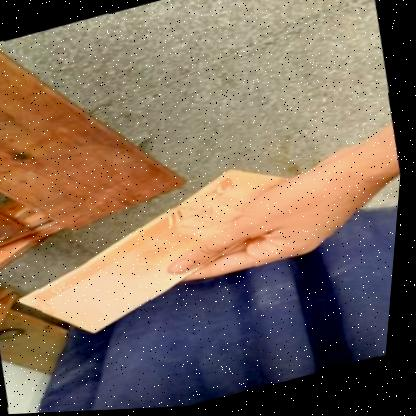twenty-back-vef: (2, 156, 317, 354)
